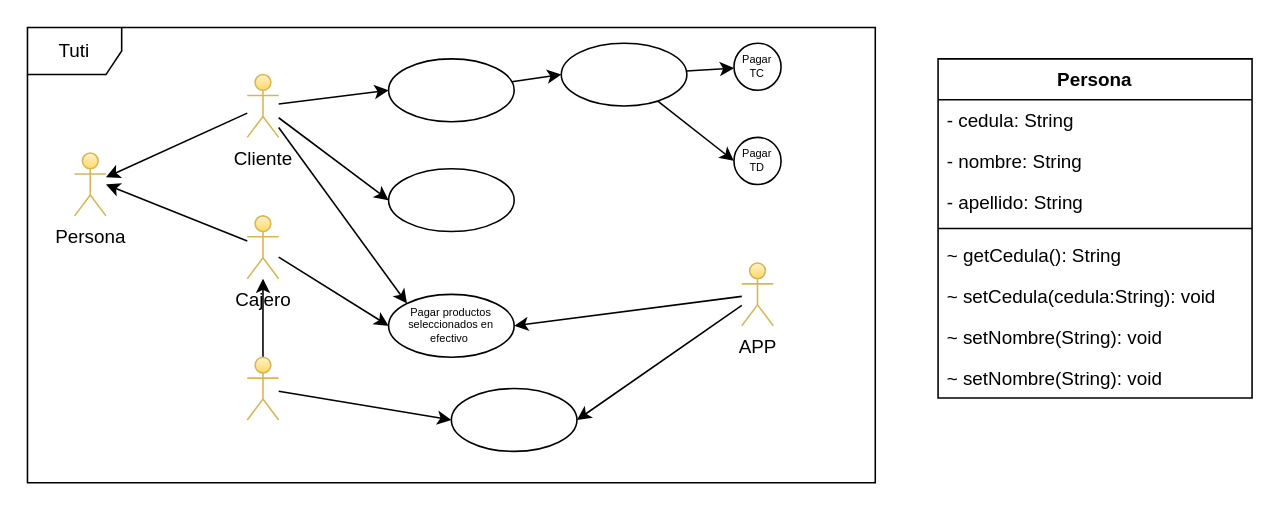
The diagram is 1280 pixels wide and 510 high, and some of its shapes have lost their labels. Each missing label, with the centre of its shape:
Cancelar compra o producto: the point at 513,419
Pagar producto online: the point at 623,74
Seleccionar productos de las perchas: the point at 450,199
Seleccionar productos online: the point at 450,89
Supervisor: the point at 262,388
